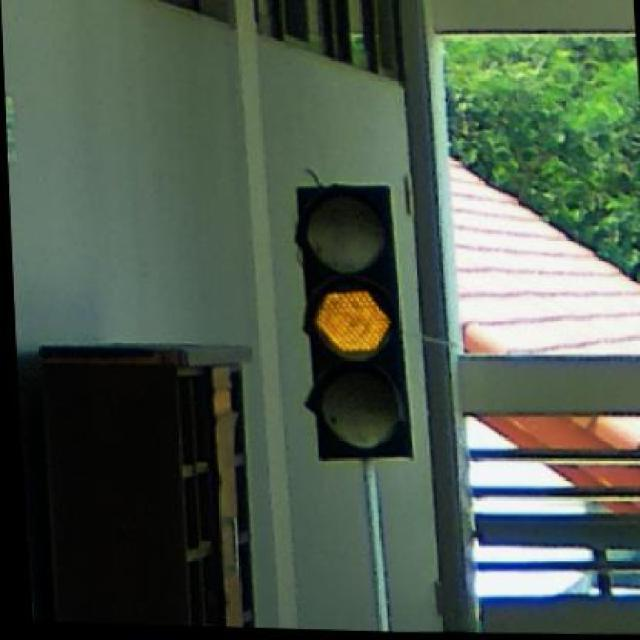yellow_light: (294, 186, 418, 470)
